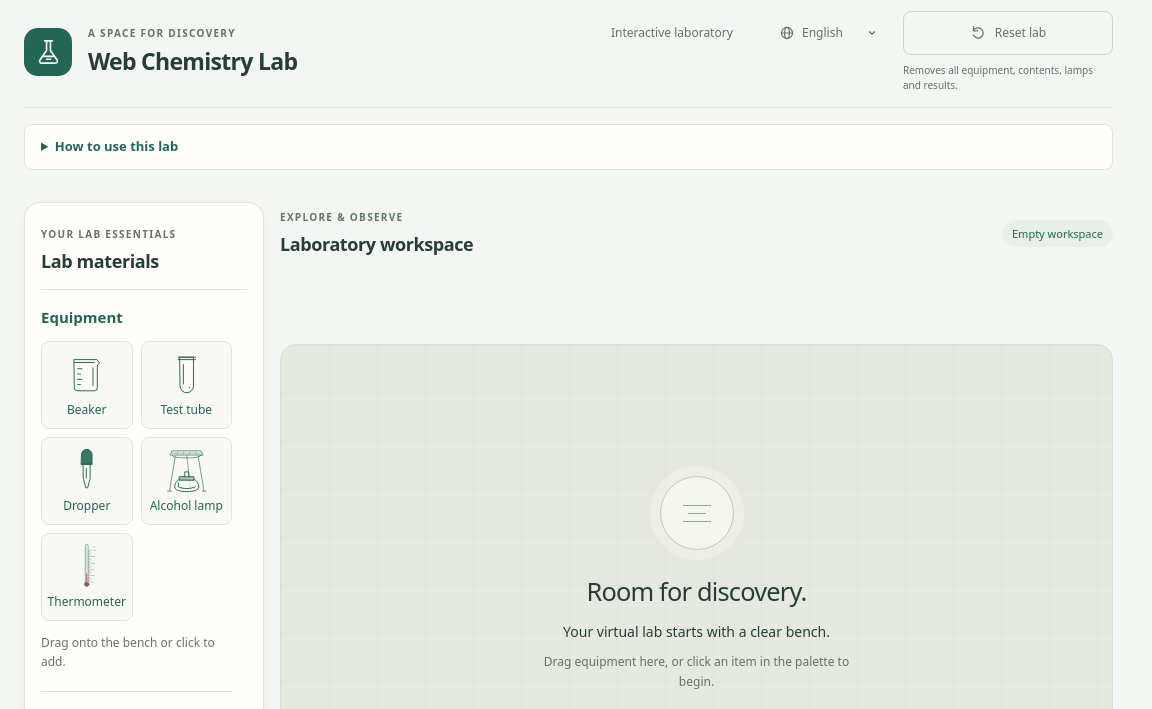
Experiment Sample/Result tabs › Beaker defaults to Sample and exposes matching tab/panel semantics
Click the button with aria-label "Add Beaker": (87, 384) [41,340,132,428]
(page scrolled)
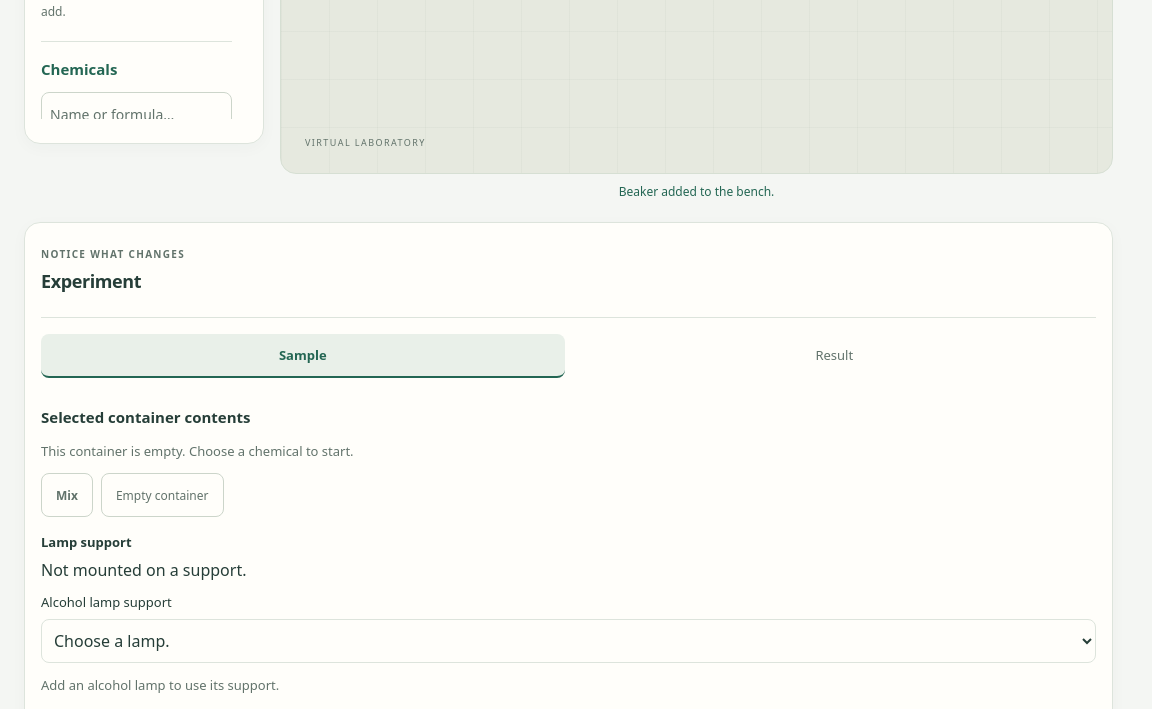
Expected: the element named "Experiment views" is shown, [41,334,1096,378]
Click the tab "Result": (834, 356) [572,334,1096,378]
(page scrolled)
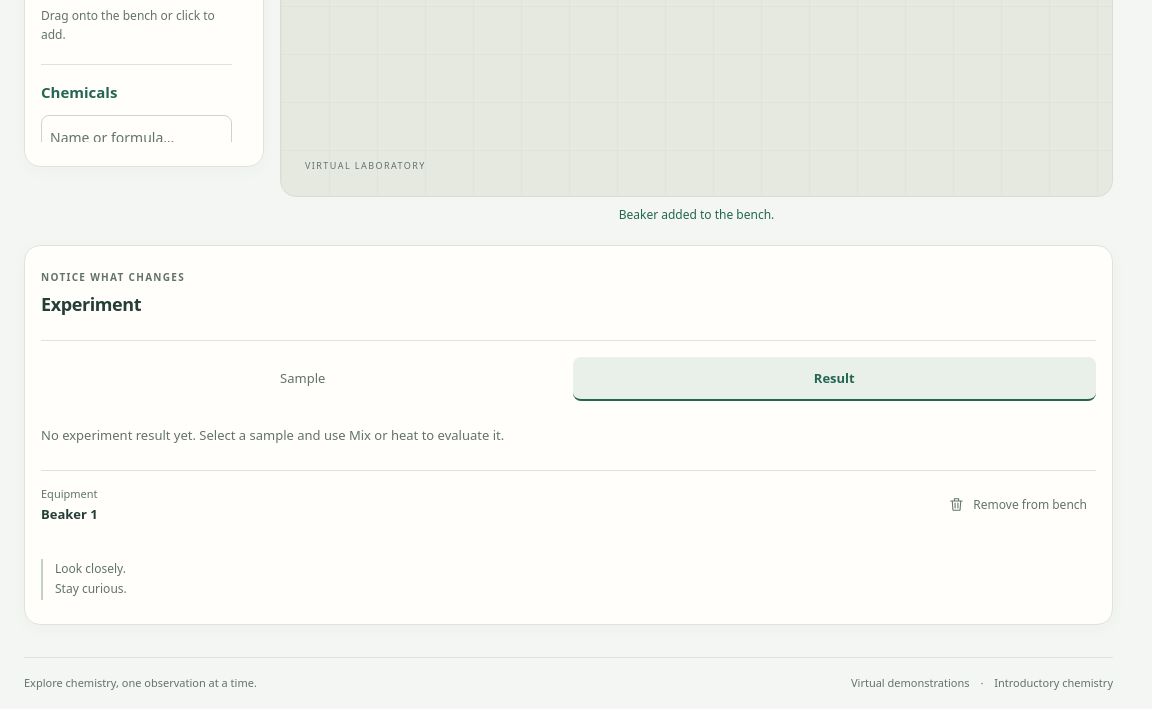
Expected: the panel "result" shows "No experiment result yet", [41,426,504,444]
